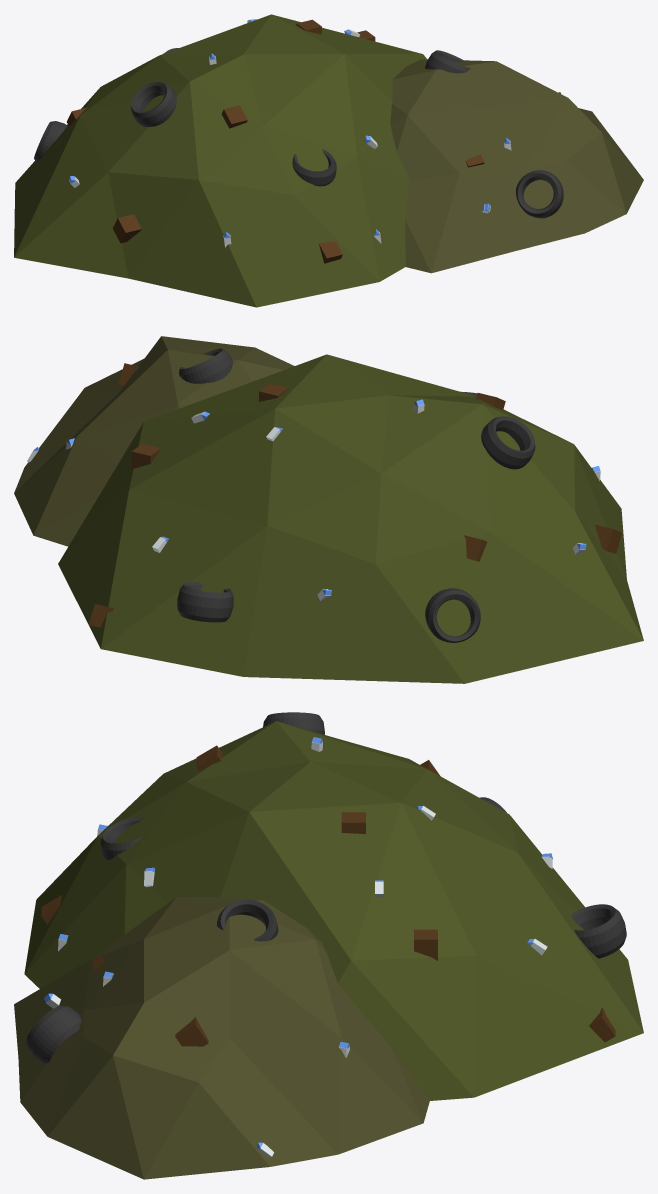
The model's file is Trash1.fbx.
3 renders of one model, top to bottom at view 1: azimuth 30°, elevation 25°; view 2: azimuth 150°, elevation 25°; view 3: azimuth 270°, elevation 25°, orthographic. The views are drawn at different scales.
Parts seen in each view (by area): view 1: Icosphere; view 2: Icosphere; view 3: Icosphere.
Boxes of the visible parts, box(x1,y1,x2,y2) form: Icosphere: box(14, 14, 643, 307); Icosphere: box(14, 336, 643, 683); Icosphere: box(14, 712, 643, 1179).
Size of the model in its own units: 6912 by 1943 by 5223.
